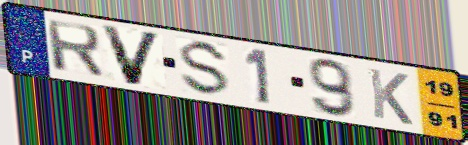1: (242, 47, 273, 108)
9: (306, 56, 359, 120)
K: (366, 66, 416, 128)
R: (43, 18, 107, 80)
S: (177, 39, 233, 98)
V: (97, 22, 166, 88)
